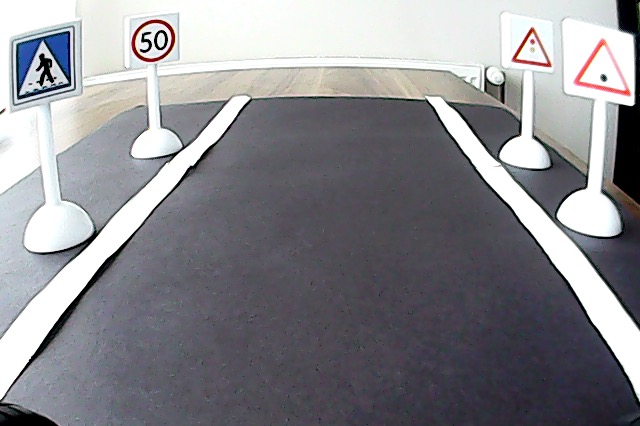green light: (570, 25, 634, 100)
pedestrian crossing: (9, 26, 77, 106)
red light: (506, 17, 554, 70)
speed limit 50: (127, 19, 179, 64)
